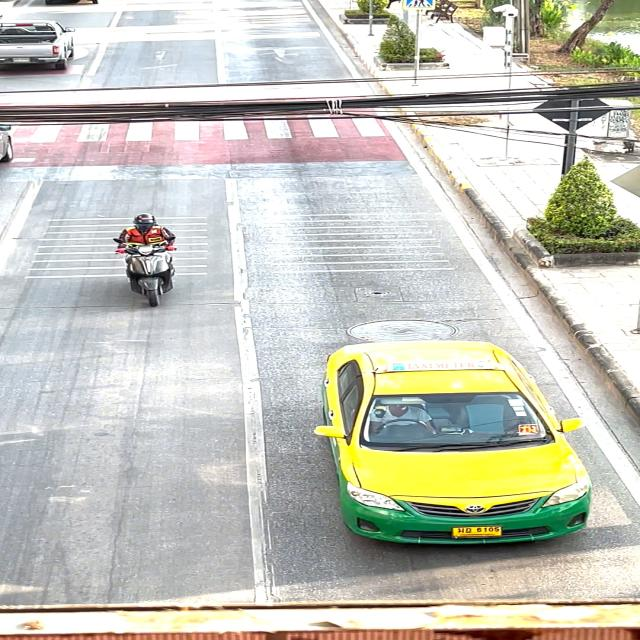car: (291, 330, 608, 564)
